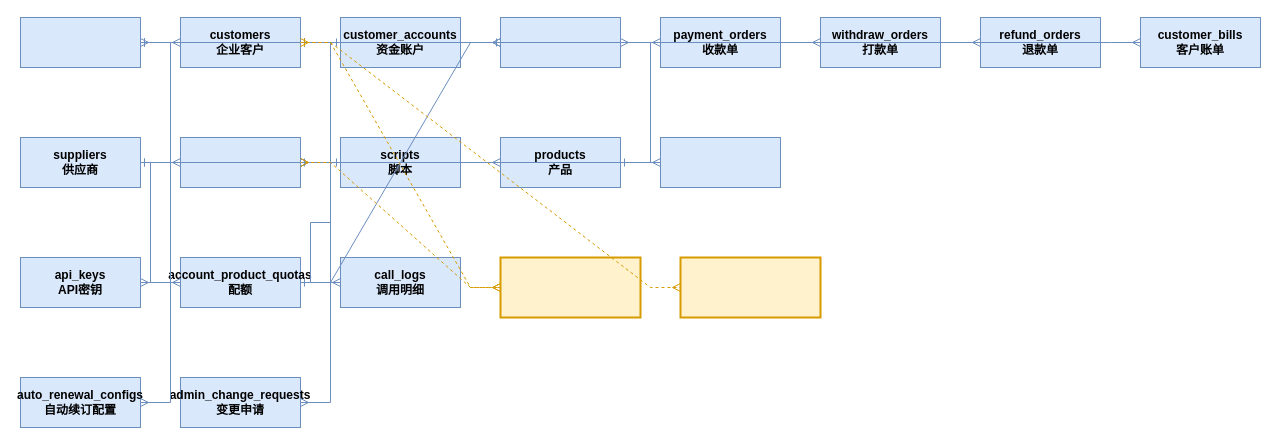
Some shapes in this 1278 by 445 pixel diagram are drawn without their labels. Here are the shapes that lost their labels. From the top down, the box of each, then its label:
(20, 16, 140, 68): accounts 账号
(500, 16, 620, 68): orders 订单
(180, 136, 300, 188): channels 通道
(660, 136, 780, 188): supplier_bills 供应商账单
(499, 256, 641, 318): customer_channel_configs 客户通道配置 🔴待新增
(679, 256, 821, 318): routing_policies 路由策略 🔴待新增
